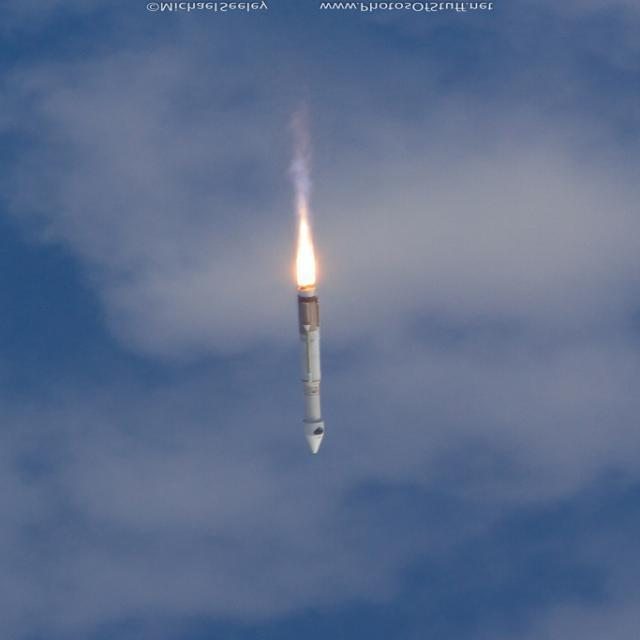missile: (294, 273, 339, 457)
